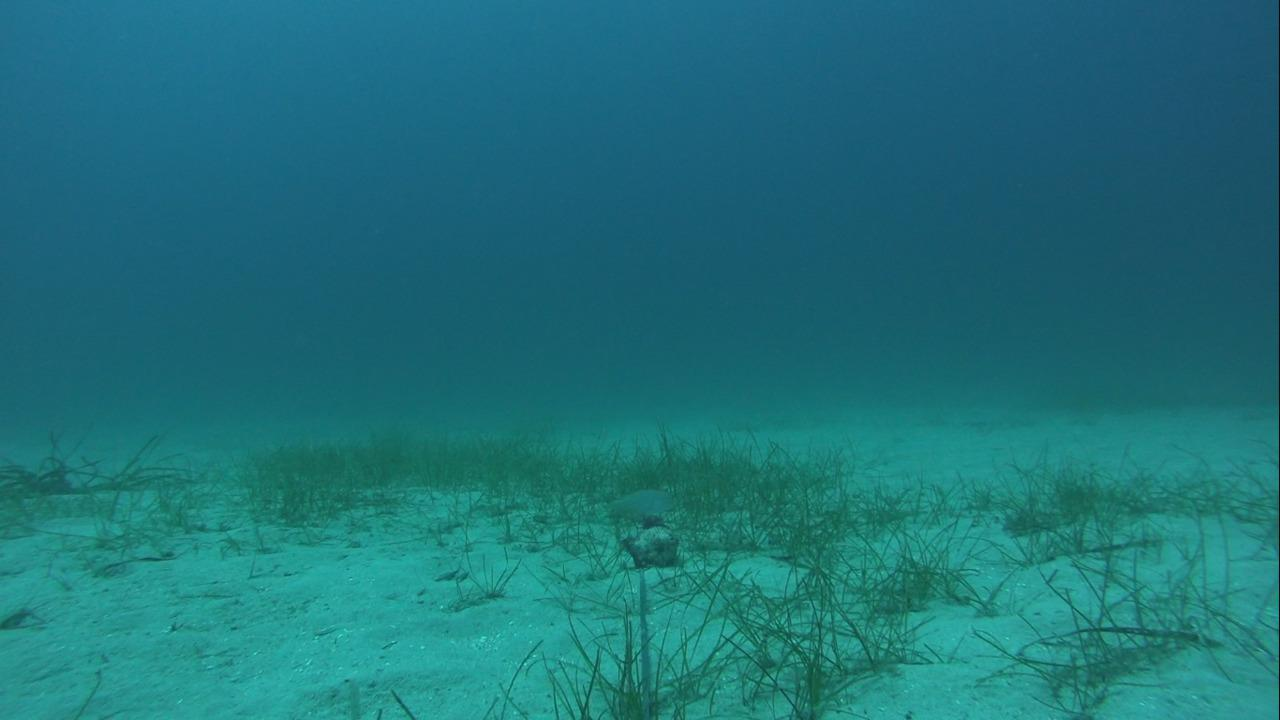raor: (595, 479, 688, 533)
